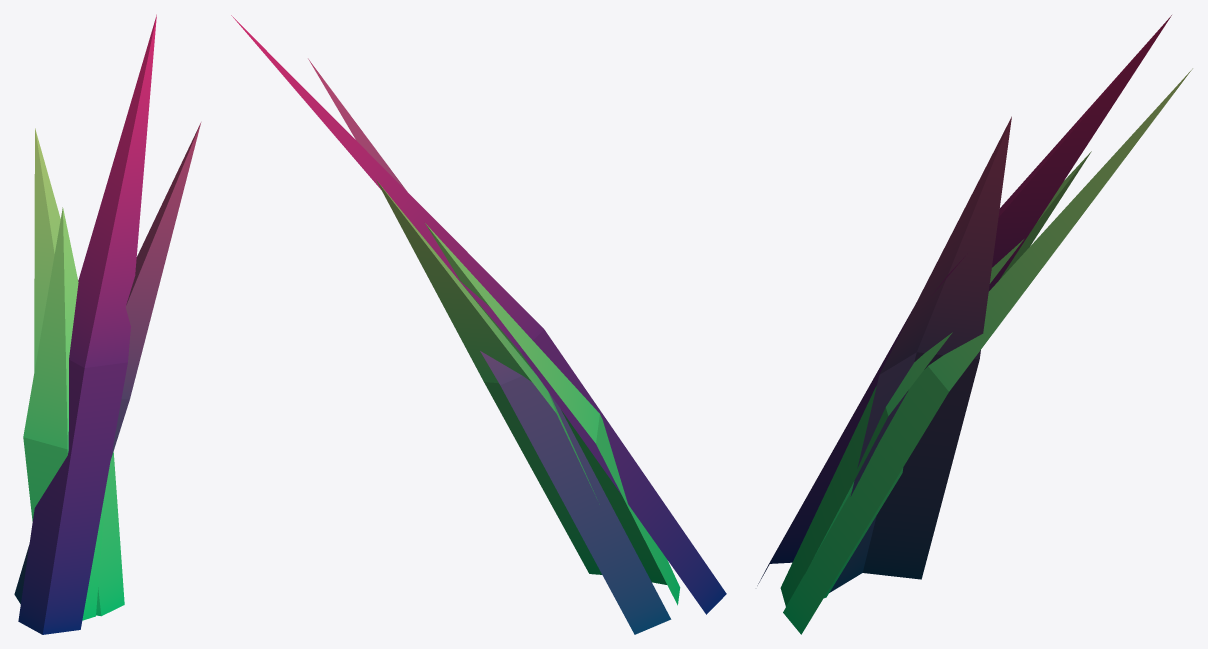
File: grass_clump6_v2.fbx
3 views of the same model, side by side, from view 1: azimuth 30°, elevation 25°; view 2: azimuth 150°, elevation 25°; view 3: azimuth 270°, elevation 25° (orthographic). The views are drawn at different scales.
Visible parts, largest first — view 1: grass_clump6_v2; view 2: grass_clump6_v2; view 3: grass_clump6_v2.
Part boxes in pixels (left/top/right/bottom): grass_clump6_v2: left=14, top=14, right=201, bottom=634; grass_clump6_v2: left=231, top=15, right=726, bottom=634; grass_clump6_v2: left=757, top=15, right=1192, bottom=634.
Bounding box in the file's own units: 32.92 × 59.56 × 32.15.
